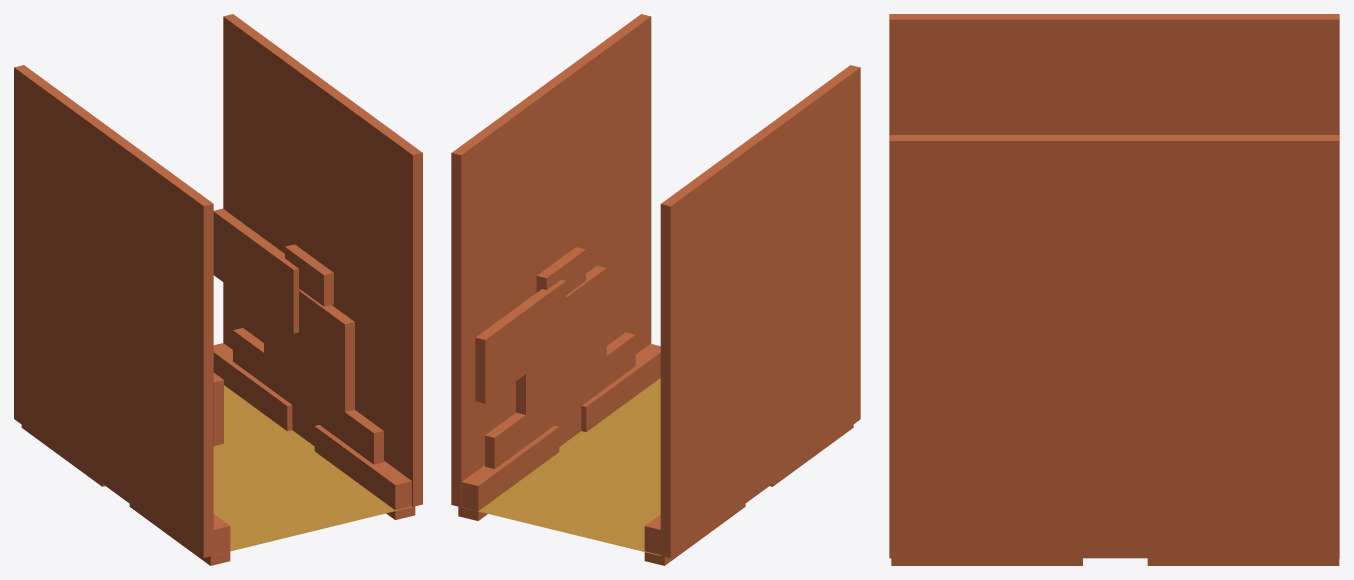
File: ambiente cavallone finale tipo 3.fbx
3 views of the same model, side by side, from view 1: azimuth 30°, elevation 25°; view 2: azimuth 150°, elevation 25°; view 3: azimuth 270°, elevation 25° (orthographic). The views are drawn at different scales.
Parts seen in each view (by area): view 1: Cube_6, Cube_6_2, Plane; view 2: Cube_6, Cube_6_2, Plane; view 3: Cube_6, Cube_6_2.
Part boxes in pixels (bbox=[...]): Cube_6: bbox=[213, 14, 422, 519]; Cube_6_2: bbox=[14, 65, 230, 565]; Plane: bbox=[213, 385, 412, 554]; Cube_6: bbox=[451, 14, 660, 520]; Cube_6_2: bbox=[644, 65, 860, 565]; Plane: bbox=[463, 378, 660, 555]; Cube_6: bbox=[889, 135, 1339, 565]; Cube_6_2: bbox=[889, 14, 1339, 134].
Bounding box in the file's own units: 4400 × 6938 × 6600.
